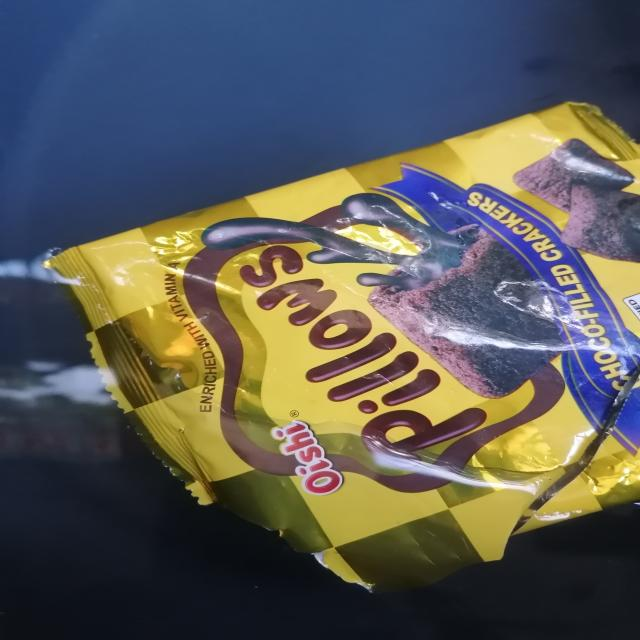Plastic Wrapper: (51, 103, 640, 589)
